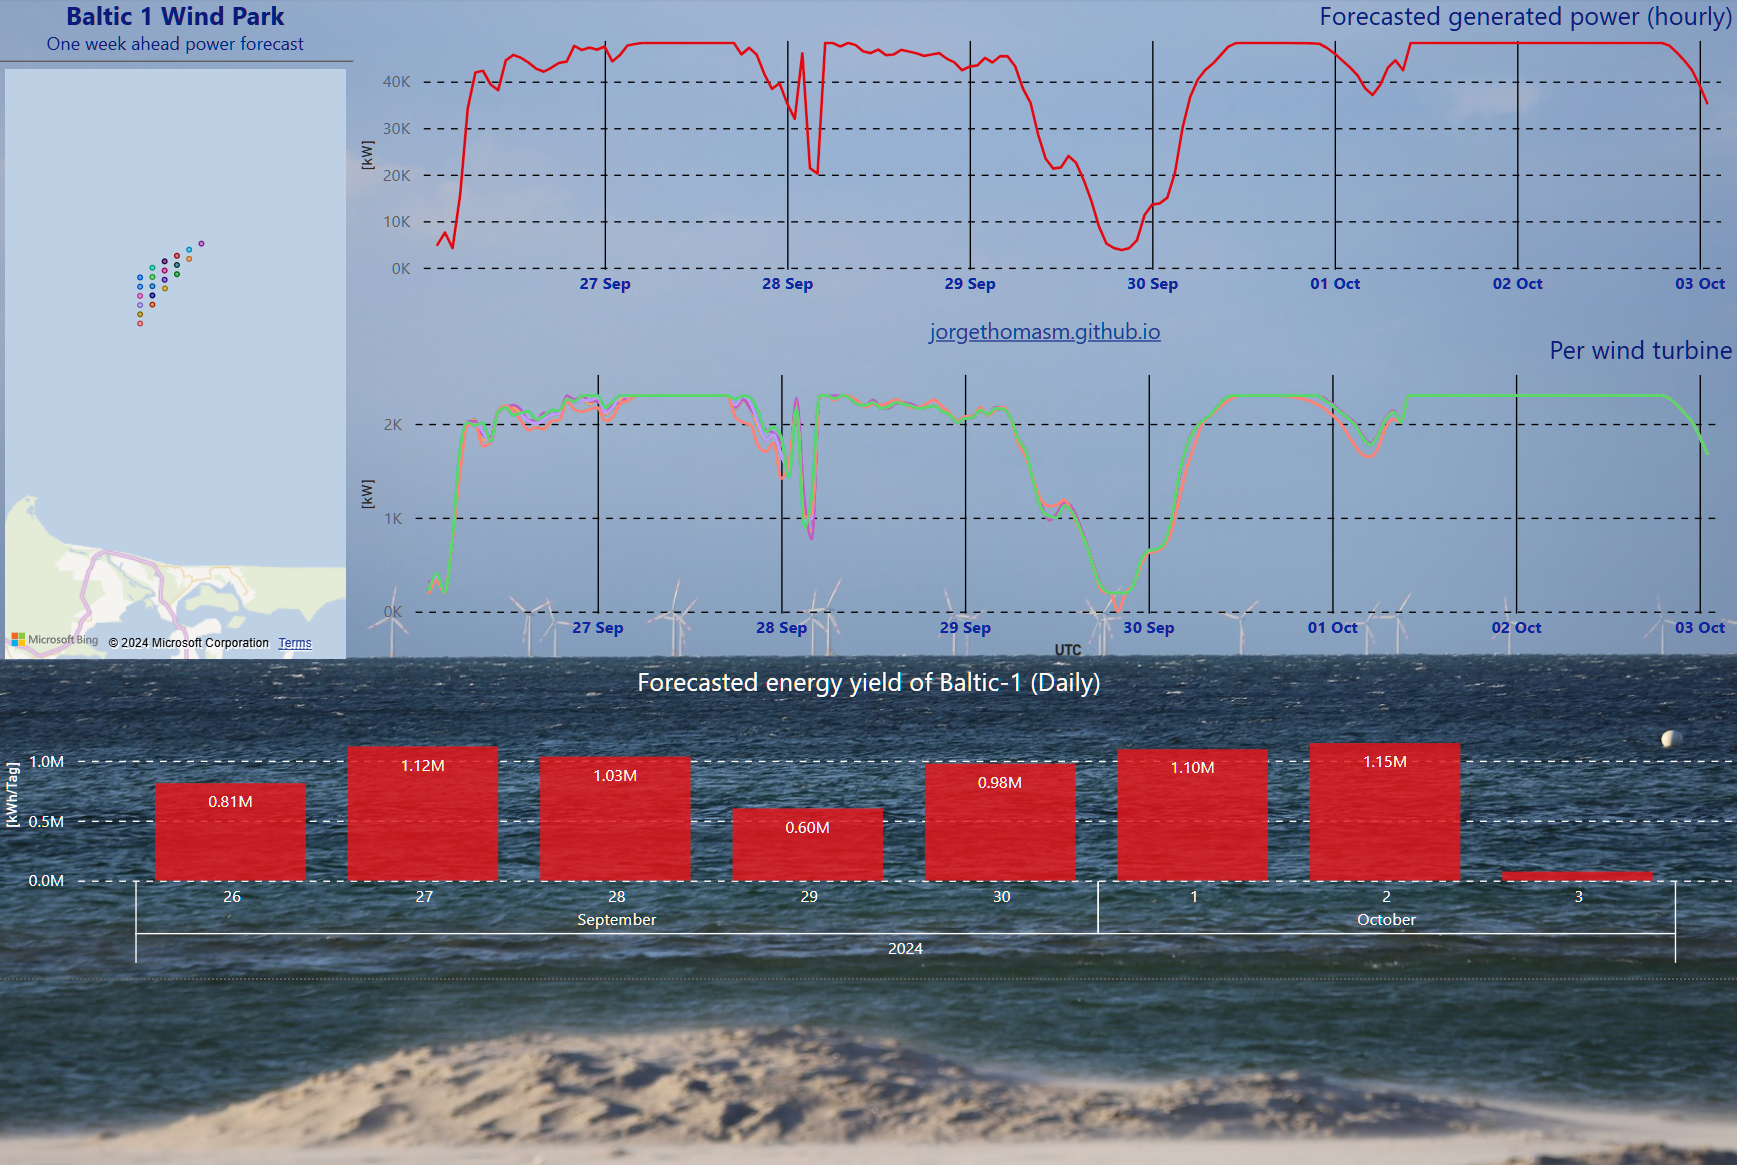

This screenshot's page, from the dashboard's own definition file:
{"tool":"powerbi","page":{"name":"E-Forecast","canvas":[1280,720],"ordinal":0},"visuals":[{"type":"map","title":"Baltic 1 Wind Park","fields":{"Y":["Baltic-1_wt_geoloc. latitude"],"X":["Baltic-1_wt_geoloc. longitude"],"Series":["p_out.id"]},"box":[10.1,0,411.5,719.7],"z":0},{"type":"lineChart","title":"FORECAST","fields":{"Category":["p_out.time"],"Series":["p_out.id"],"Y":["Sum(p_out.output_kW)"]},"box":[421.5,434.3,858.5,285.5],"z":1000},{"type":"lineChart","title":"Sum","fields":{"Category":["p_out.time"],"Y":["Sum(p_out.output_kW)"]},"box":[416.8,215.8,858.5,227.9],"z":2000},{"type":"clusteredColumnChart","fields":{"Category":["p_out.day"],"Y":["Sum(p_out.output_kW)"]},"box":[422.2,0,857.8,215.8],"z":2001}]}

Visuals, with their boxes on the page's 1280x720 design canvas (x1, y1, x2, y2). These are canvas units, not pixel positions in the 1737x1165 screenshot, which may show the page scaled, cropped or inside an application window:
"Baltic 1 Wind Park" map: {"left": 10, "top": 0, "right": 422, "bottom": 720}
"FORECAST" lineChart: {"left": 422, "top": 434, "right": 1280, "bottom": 720}
"Sum" lineChart: {"left": 417, "top": 216, "right": 1275, "bottom": 444}
clusteredColumnChart - p_out.day x Sum(p_out.output_kW): {"left": 422, "top": 0, "right": 1280, "bottom": 216}
